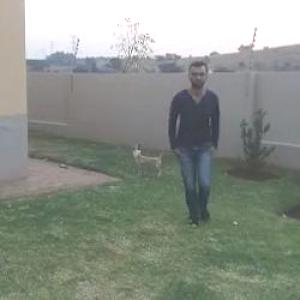follow: (163, 54, 221, 230)
